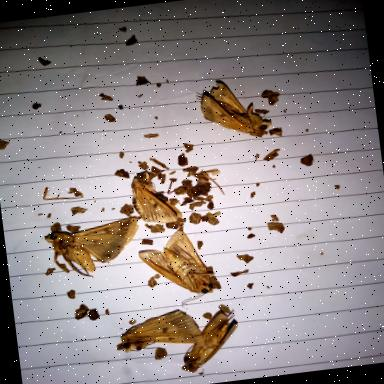abw: (135, 223, 225, 310), (189, 68, 277, 150), (38, 210, 144, 278), (174, 304, 250, 374), (110, 304, 204, 354), (124, 162, 184, 229)
